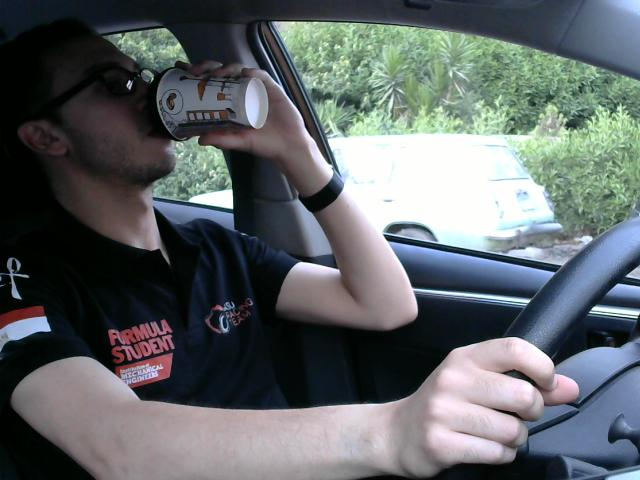Drinking: (153, 62, 272, 146)
